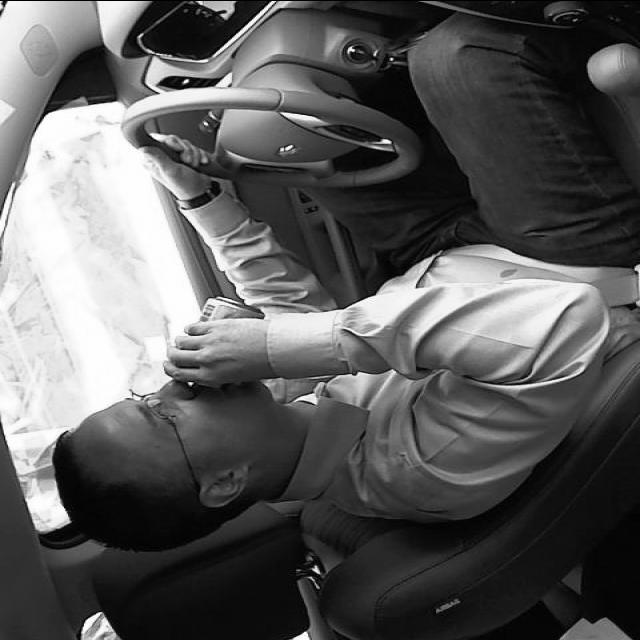drinking: (162, 294, 266, 395)
